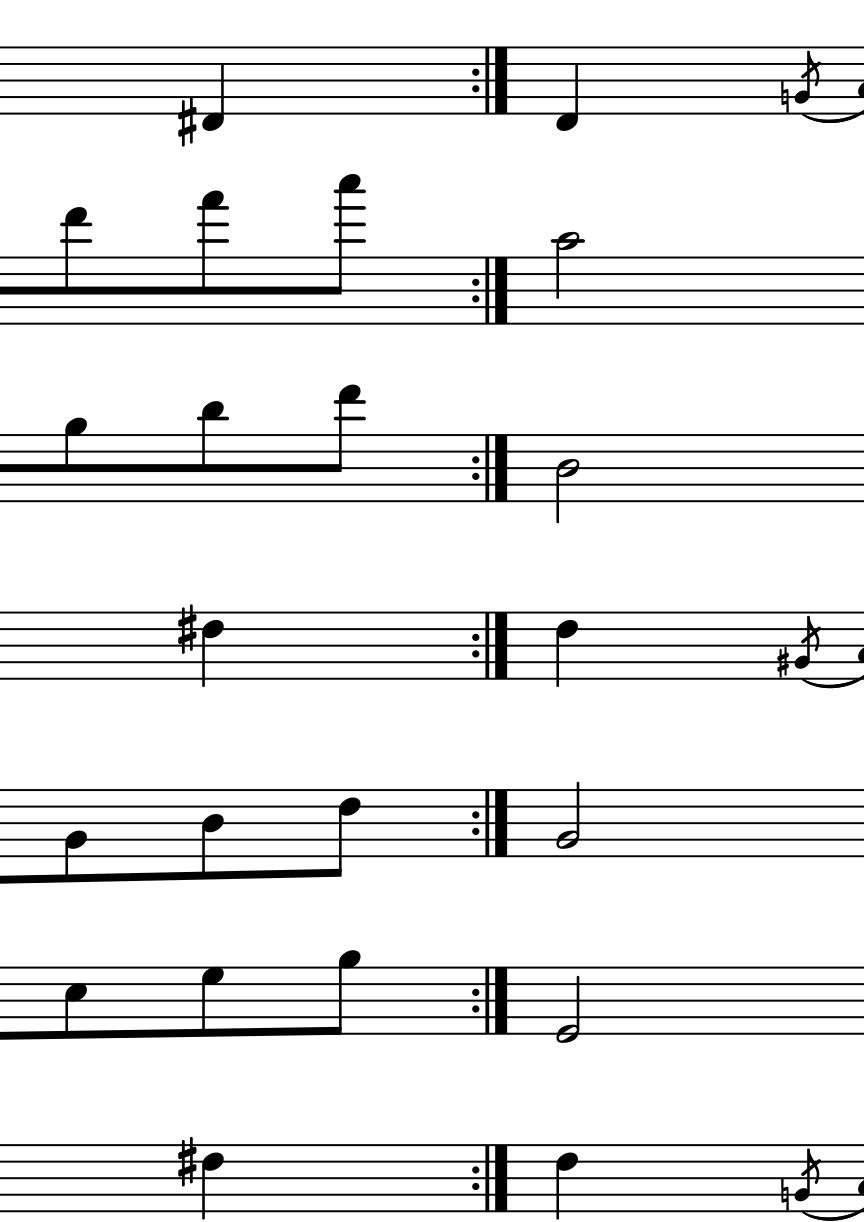2_0: (554, 963, 585, 1046)
2_10: (553, 228, 582, 327)
2_2: (554, 779, 583, 857)
2_4: (553, 431, 582, 526)
4_-1: (200, 43, 227, 134), (556, 44, 581, 131)
4_6: (552, 1142, 580, 1222), (200, 1140, 227, 1222), (201, 608, 226, 684), (555, 609, 578, 688)
8_11: (199, 401, 225, 504)
8_13: (326, 384, 362, 505), (61, 206, 87, 328)
8_15: (199, 188, 226, 328)
8_17: (327, 172, 362, 328)
8_2: (62, 786, 88, 886)
8_4: (200, 785, 224, 884)
8_5: (62, 964, 90, 1043)
8_6: (326, 787, 361, 877)
8_7: (196, 965, 227, 1040)
8_9: (324, 950, 361, 1036), (63, 417, 87, 505)
Acciaccature: (794, 609, 825, 679), (792, 1143, 824, 1210)
RightRepeatSign: (468, 47, 517, 115), (468, 435, 513, 500), (467, 613, 510, 681), (469, 257, 512, 324), (468, 1146, 510, 1212), (469, 790, 510, 856), (470, 965, 507, 1035)
Sharp: (173, 1135, 200, 1188), (173, 96, 199, 148), (174, 602, 199, 651)
Slur: (800, 1208, 864, 1221), (800, 678, 864, 690)
